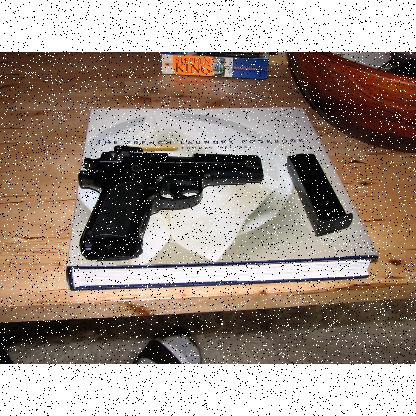gun: (76, 144, 264, 260)
